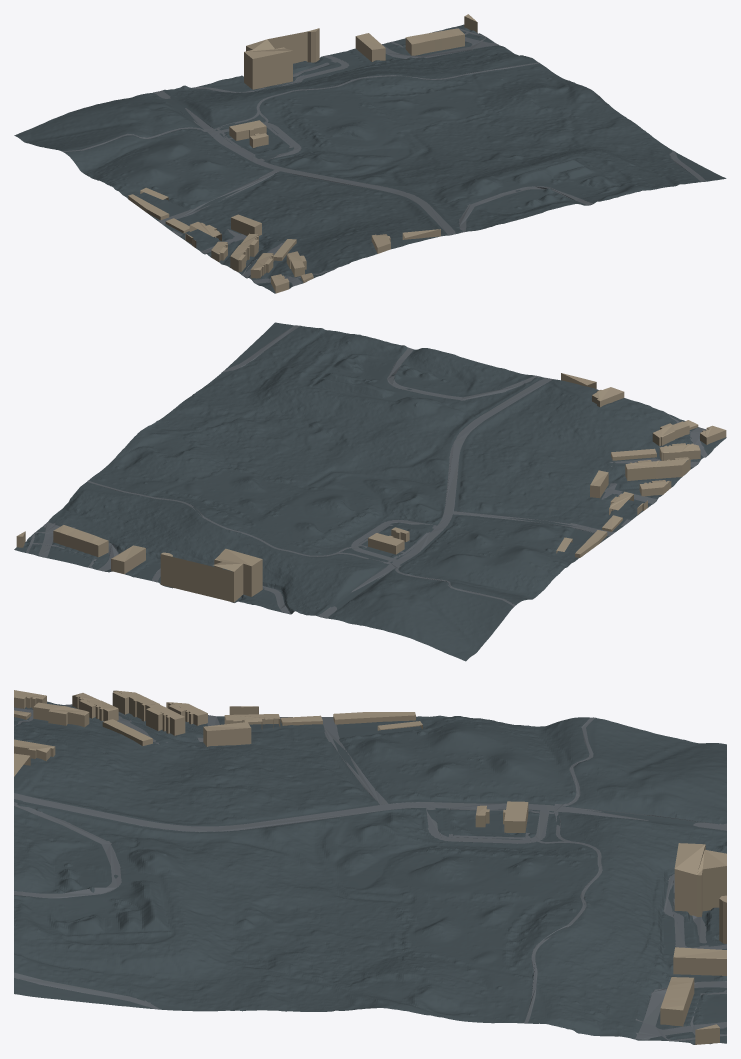
The model's file is epsg26910-1422-10892.lod0.glb.
3 views of the same model, one above another, from view 1: azimuth 30°, elevation 25°; view 2: azimuth 150°, elevation 25°; view 3: azimuth 270°, elevation 25° (orthographic). The views are drawn at different scales.
Parts seen in each view (by area): view 1: epsg26910-1422-10892-lod0; view 2: epsg26910-1422-10892-lod0; view 3: epsg26910-1422-10892-lod0.
Part boxes in pixels (x1,y1,x2,y2): epsg26910-1422-10892-lod0: (14, 14, 726, 293); epsg26910-1422-10892-lod0: (14, 322, 726, 661); epsg26910-1422-10892-lod0: (14, 690, 726, 1044).
Bounding box in the file's own units: 384 × 46.39 × 384.
